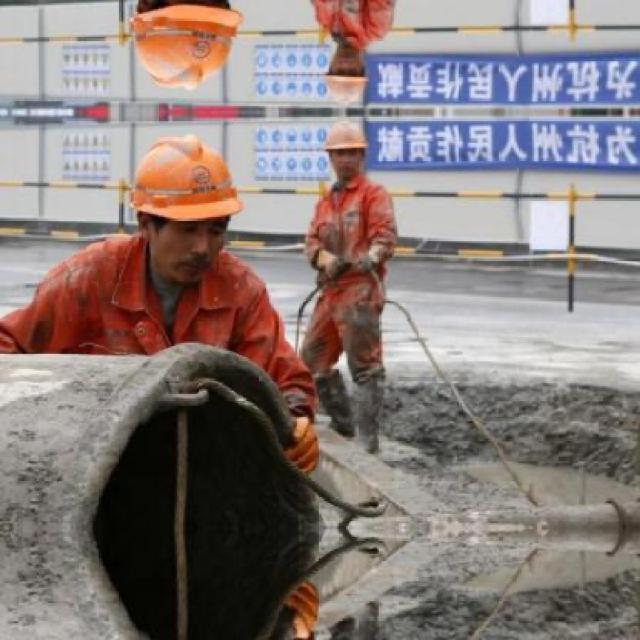helmet: (114, 128, 257, 289), (114, 0, 259, 95), (320, 43, 371, 108), (320, 114, 371, 178)
